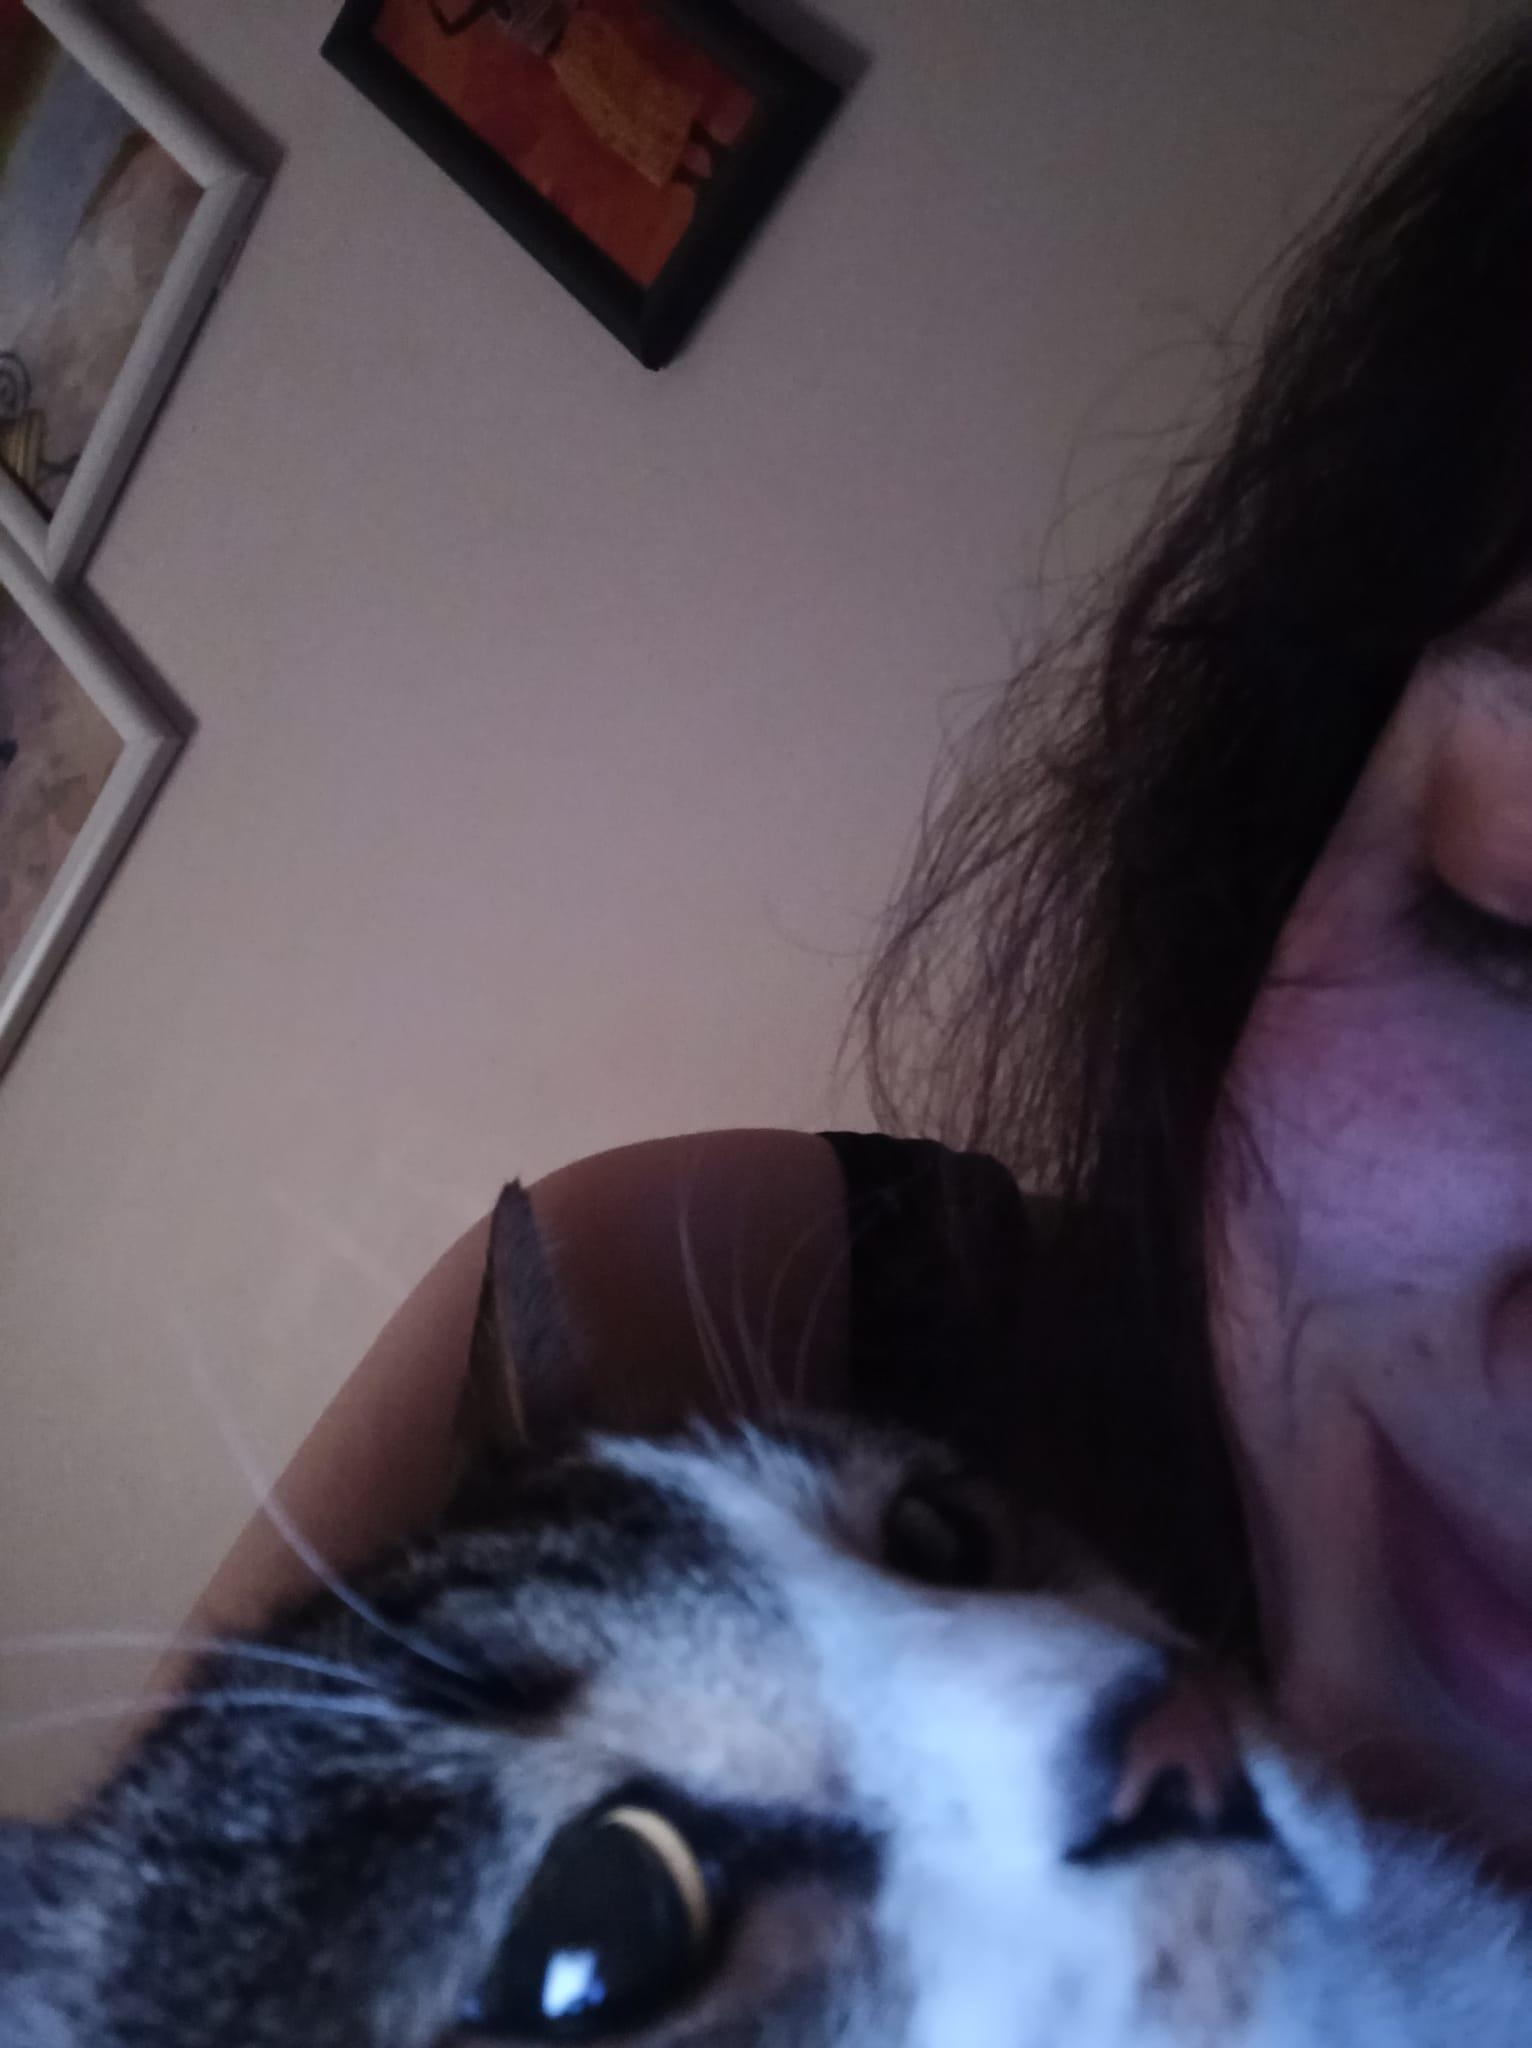kedo: (6, 1184, 1532, 2045)
